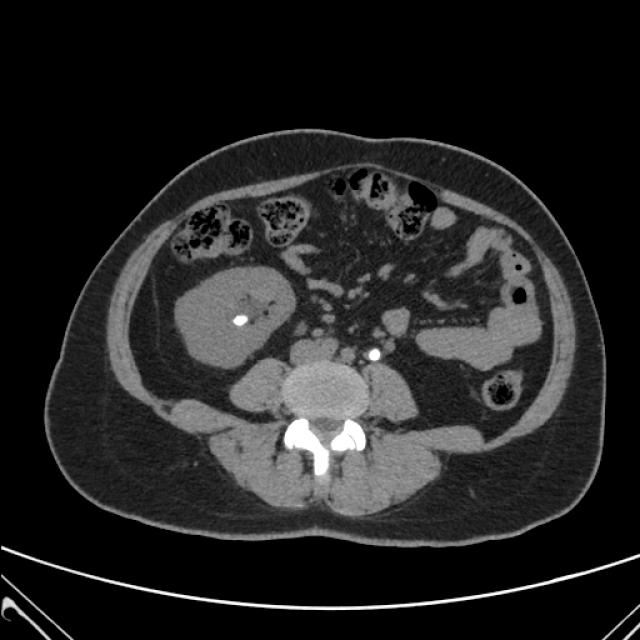kidney: (172, 263, 296, 367)
stone: (231, 312, 249, 326)
